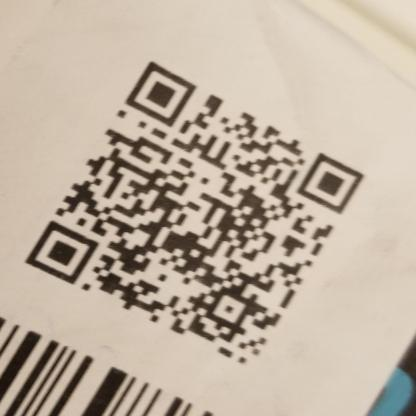barcode: (1, 310, 227, 416)
qr: (22, 54, 372, 368)
